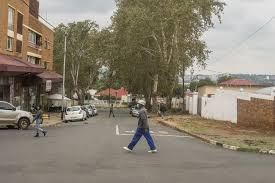mask: (136, 100, 145, 107), (37, 105, 40, 110)
